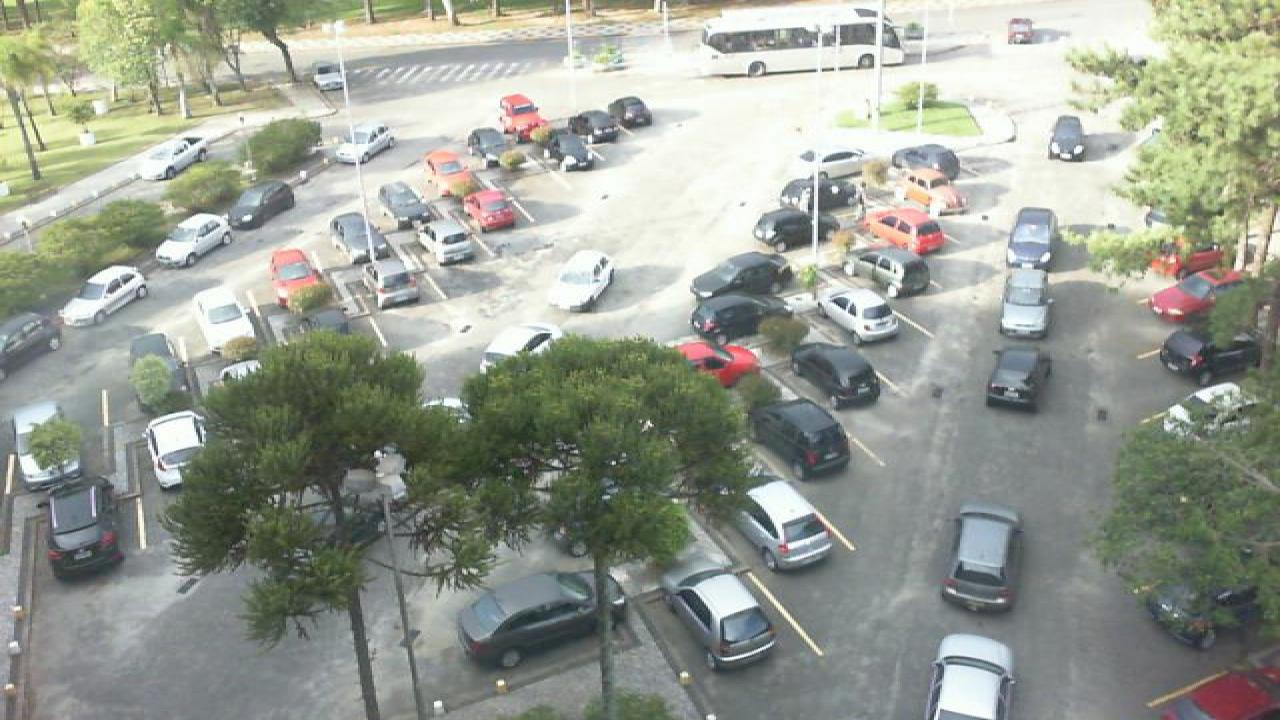Car: (454, 570, 628, 670), (662, 566, 782, 673), (728, 475, 838, 576), (938, 506, 1026, 614), (38, 472, 124, 578), (922, 630, 1020, 720), (750, 398, 854, 481), (8, 400, 86, 492), (1130, 380, 1254, 433), (792, 339, 884, 410), (1148, 266, 1246, 328), (1156, 326, 1260, 384), (56, 264, 150, 328), (190, 282, 262, 360), (140, 408, 208, 490), (688, 294, 798, 344), (690, 248, 794, 300), (672, 334, 762, 392), (984, 342, 1054, 415), (820, 286, 900, 348), (544, 248, 616, 312), (838, 248, 930, 298), (154, 211, 232, 269), (860, 207, 946, 257), (126, 331, 186, 399), (996, 268, 1054, 338), (752, 205, 838, 252), (480, 322, 564, 370), (224, 180, 298, 233), (778, 176, 868, 219), (886, 172, 970, 218), (266, 246, 326, 308), (0, 312, 64, 370), (132, 135, 208, 180), (1006, 207, 1058, 272), (1152, 235, 1224, 281), (368, 251, 424, 309), (890, 142, 964, 183), (330, 120, 396, 164), (496, 92, 548, 145), (794, 146, 866, 184), (420, 215, 476, 263), (376, 180, 428, 231), (462, 188, 522, 232), (328, 212, 380, 262), (420, 147, 470, 196), (546, 130, 600, 172), (1046, 114, 1088, 163), (464, 125, 514, 166), (602, 94, 654, 130), (562, 109, 612, 146), (312, 64, 350, 91), (1006, 17, 1038, 45)
